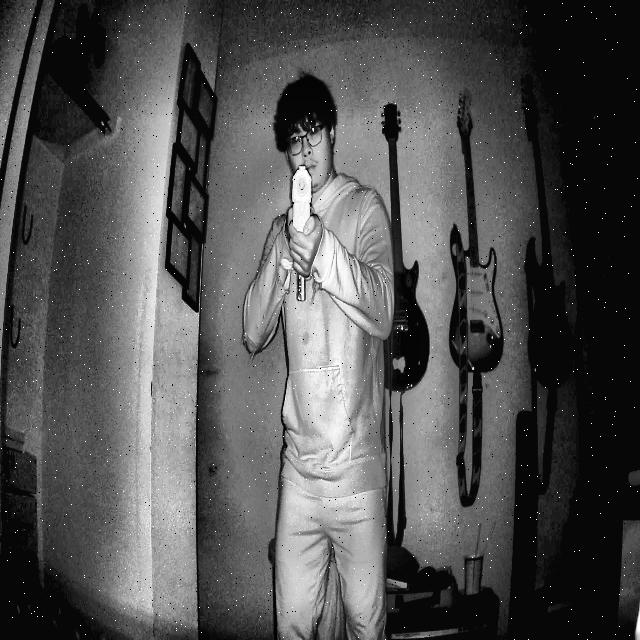Nerf_Blaster: (279, 146, 331, 328)
